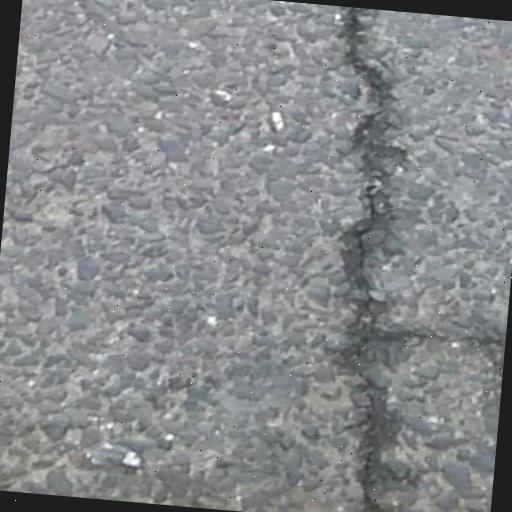spalling: (316, 17, 396, 512)
